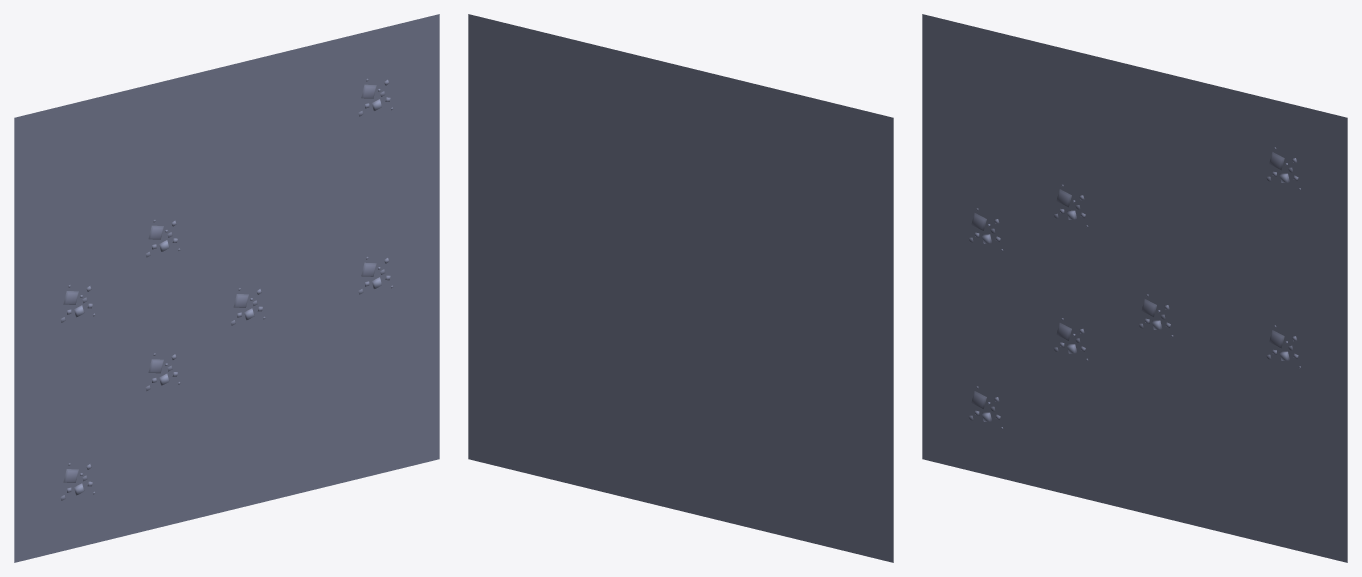
File: FinalFloor.obj
3 views of the same model, side by side, from view 1: azimuth 30°, elevation 25°; view 2: azimuth 150°, elevation 25°; view 3: azimuth 330°, elevation 25° (orthographic).
Visible parts, largest first — view 1: FinalFloor; view 2: FinalFloor; view 3: FinalFloor.
Part boxes in pixels (x1,y1,x2,y2): FinalFloor: [14, 14, 439, 562]; FinalFloor: [468, 14, 893, 562]; FinalFloor: [922, 14, 1347, 562].
Size of the model in its own units: 50 by 50 by 0.25.
Materials: 2 (2 with a texture image).
